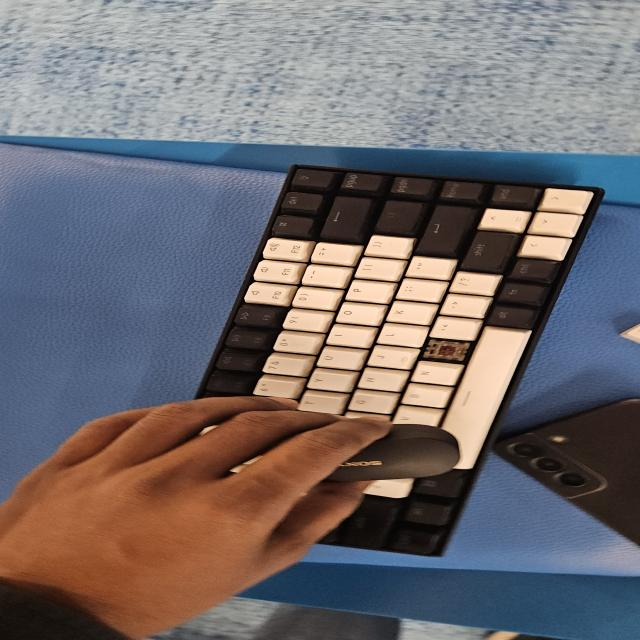C: (432, 341, 465, 367), (427, 343, 466, 364)
